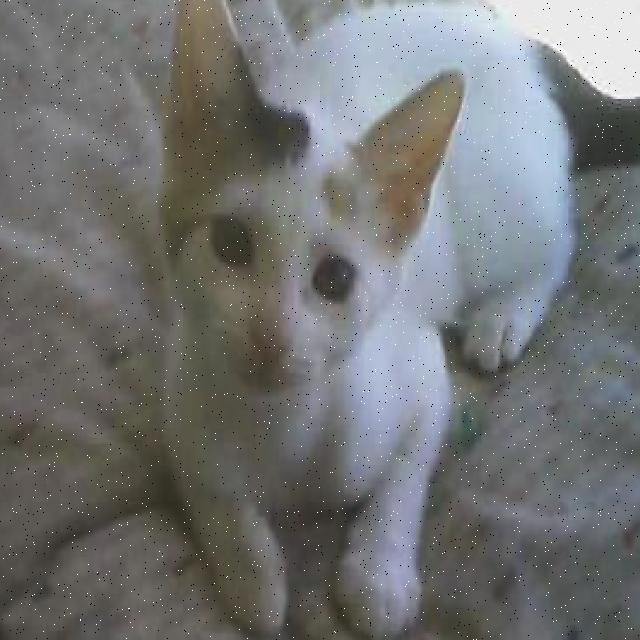Cat: (152, 0, 460, 405)
